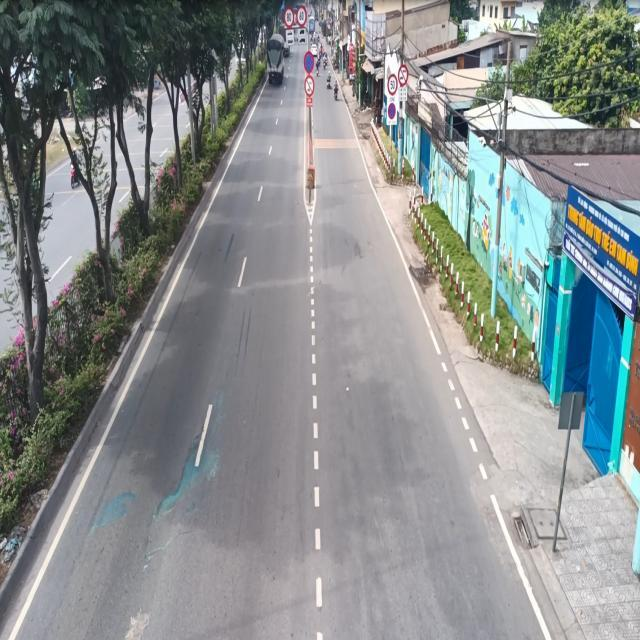truck: (265, 33, 285, 85)
